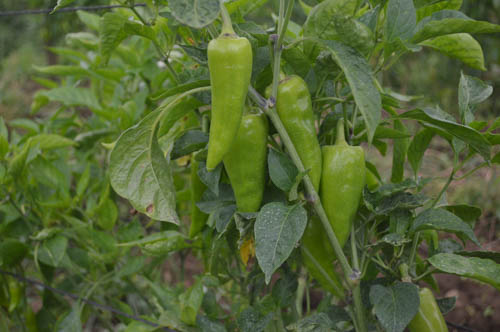ChiliPepper: (204, 40, 253, 172), (270, 74, 321, 188), (223, 112, 267, 213), (320, 147, 363, 248), (300, 215, 344, 299)
